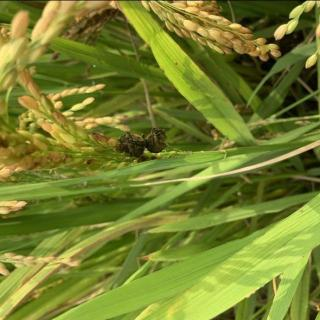Gosong-Palsu: (116, 126, 168, 159)
